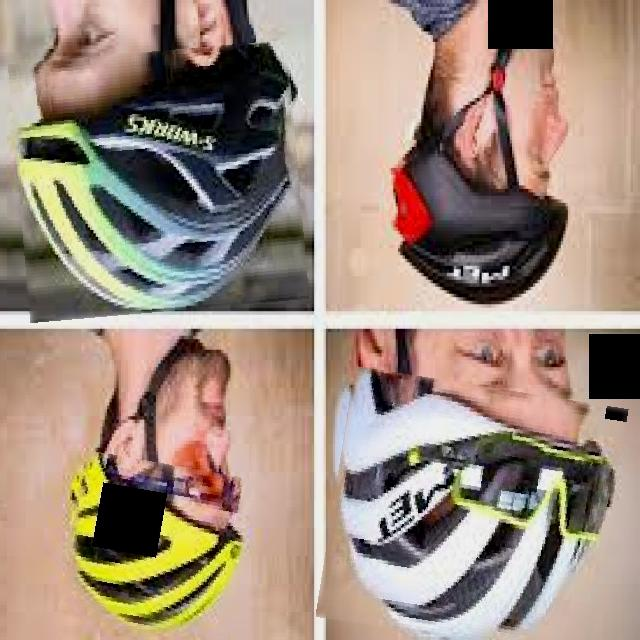helmet: (13, 45, 303, 317), (325, 376, 620, 640), (64, 457, 250, 637)
